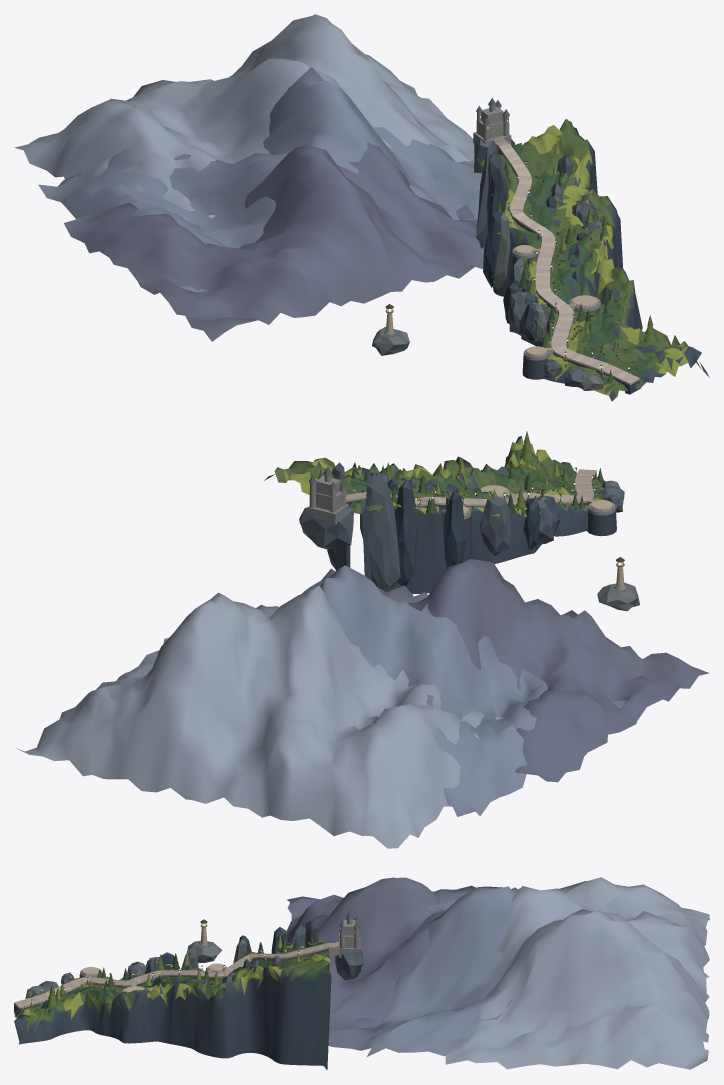
The model's file is coast-source.glb.
3 views of the same model, one above another, from view 1: azimuth 30°, elevation 25°; view 2: azimuth 150°, elevation 25°; view 3: azimuth 270°, elevation 25° (orthographic). The views are drawn at different scales.
Parts seen in each view (by area): view 1: Mountain ridge 0, Mountain ridge 2, Mountain ridge 1, Coastal escarpment, Cliff 3, Cliff 1, Cliff 2, Cliff 4, Paving 0, Paving 3, Paving 2, Paving 1 (+4 smaller); view 2: Mountain ridge 2, Mountain ridge 0, Mountain ridge 1, Coastal escarpment, Cliff 3, Cliff 1, Cliff 4, Cliff 2, Citadel limestone, Cliff 0, Limestone 2; view 3: Mountain ridge 2, Coastal escarpment, Mountain ridge 1, Mountain ridge 0, Cliff 3, Cliff 2, Cliff 1, Paving 0, Paving 1, Paving 2, Paving 3, Cliff 0 (+6 smaller).
Part boxes in pixels (x1,y1,x2,y2): Mountain ridge 0: (64,142,484,341); Mountain ridge 2: (14,14,474,221); Mountain ridge 1: (38,67,482,292); Coastal escarpment: (493,119,709,401); Cliff 3: (474,139,645,386); Cliff 1: (487,148,639,394); Cliff 2: (372,164,629,390); Cliff 4: (483,195,576,323); Paving 0: (507,155,639,385); Paving 3: (498,144,624,378); Paving 2: (501,147,629,380); Paving 1: (504,151,634,382); Mountain ridge 2: (16,585,503,848); Mountain ridge 0: (301,559,709,782); Mountain ridge 1: (256,565,626,816); Coastal escarpment: (264,436,605,594); Cliff 3: (299,474,624,591); Cliff 1: (335,473,616,586); Cliff 4: (387,478,540,567); Cliff 2: (353,472,639,611); Citadel limestone: (309,475,346,512); Cliff 0: (327,462,623,568); Limestone 2: (307,473,626,590); Mountain ridge 2: (445,877,709,1069); Coastal escarpment: (14,942,331,1070); Mountain ridge 1: (366,886,519,1056); Mountain ridge 0: (286,877,517,1050); Cliff 3: (38,921,363,992); Cliff 2: (28,939,299,1007); Cliff 1: (14,927,329,1012); Paving 0: (14,947,313,1008); Paving 1: (19,945,318,1007); Paving 2: (24,944,323,1006); Paving 3: (29,943,328,1004); Cliff 0: (32,955,282,1001).
Size of the model in its own units: 90.9 by 31.57 by 156.
